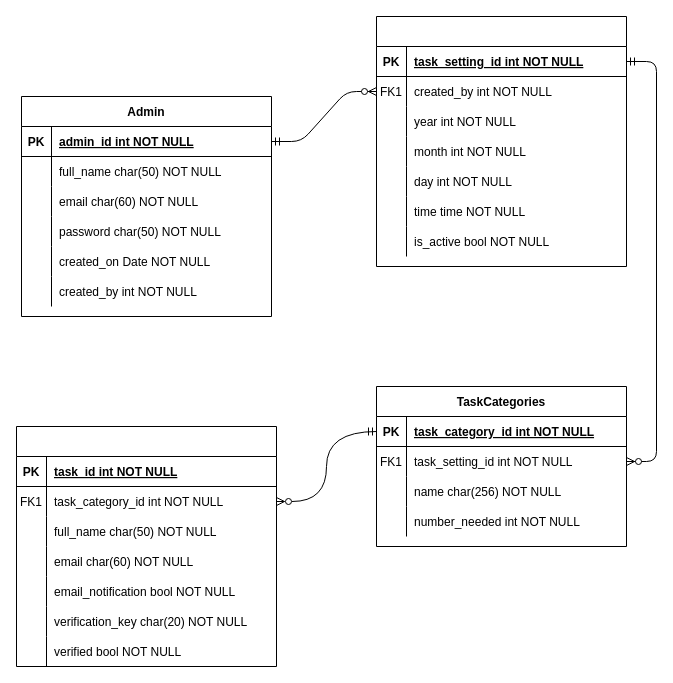
This 673x683 diagram has some shape labels left out. The shapes that lost their labels are listed below. From the top down, each one's box as (x1, y1, x2, y2) in pixels, then its label:
(376, 16, 626, 266): TaskSettings
(16, 426, 276, 666): tasks
